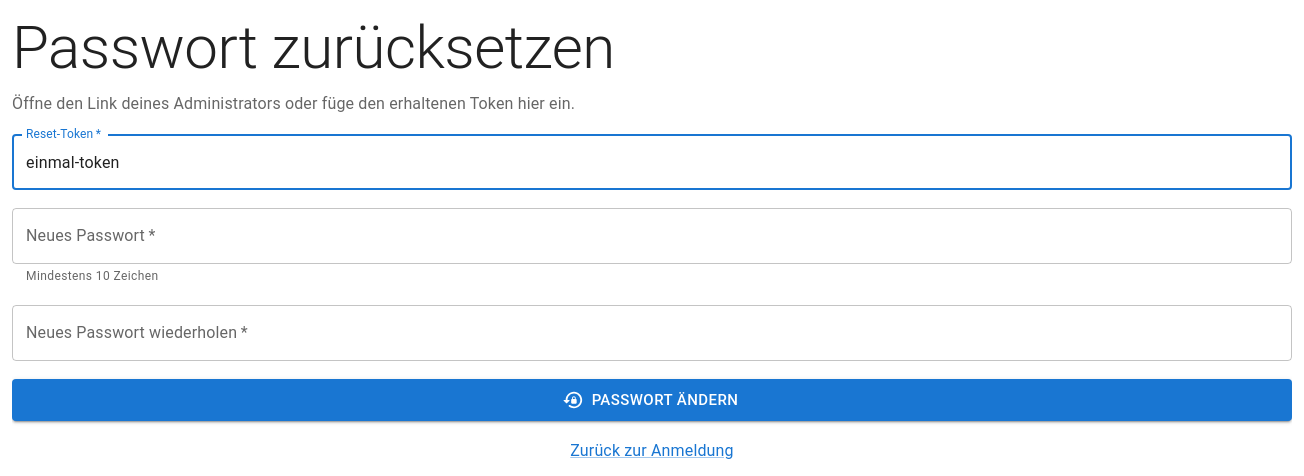
Test: ResetPasswordPage › übernimmt den Token aus dem Link und setzt das Passwort über die API zurück
The width and height of the screenshot is (1304, 476).
Expected: the field labelled "Reset-Token *" holds "einmal-token", [12,134,1292,190]
Type "mein-neues-passwort" into the password field labelled "Neues Passwort *" at (652, 236), box [12,208,1292,264]
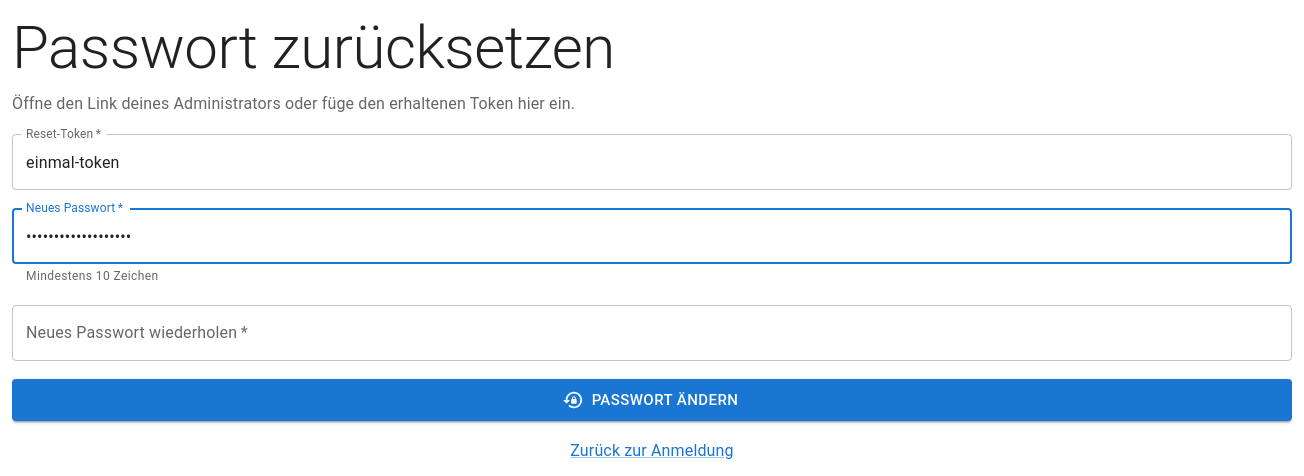
Type "mein-neues-passwort" into the password field labelled "Neues Passwort wiederholen *" at (652, 333), box [12,305,1292,361]
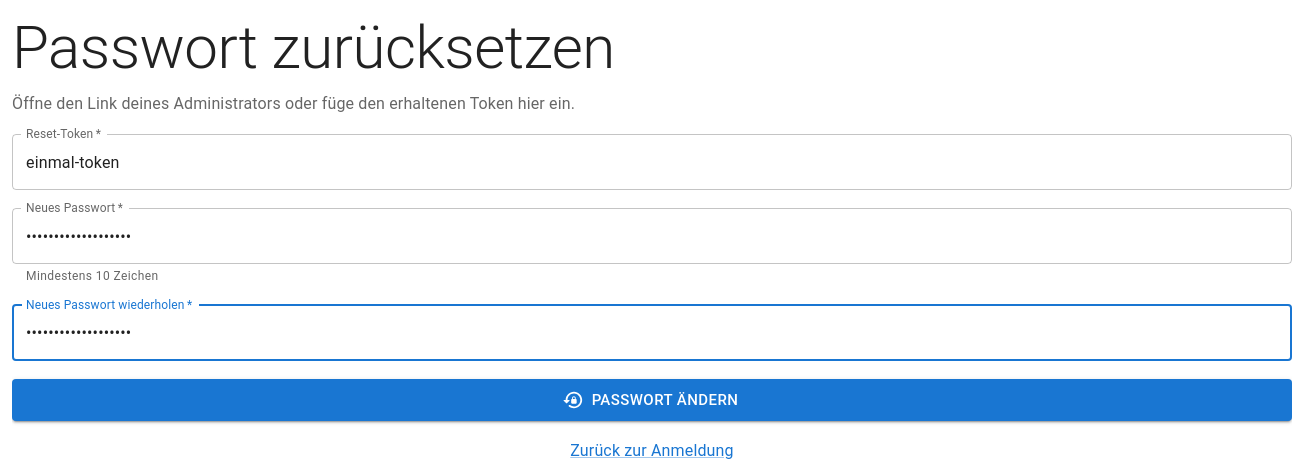
Click the button "Passwort ändern" at (652, 400), box [12,379,1292,421]
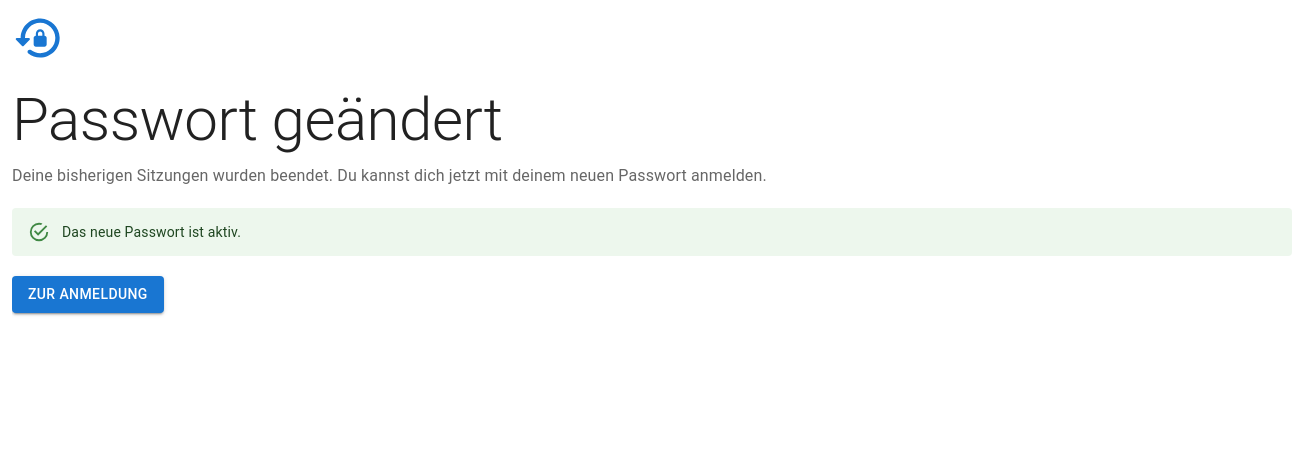
Now the heading "Passwort geändert" is shown, box [12,84,502,155]
